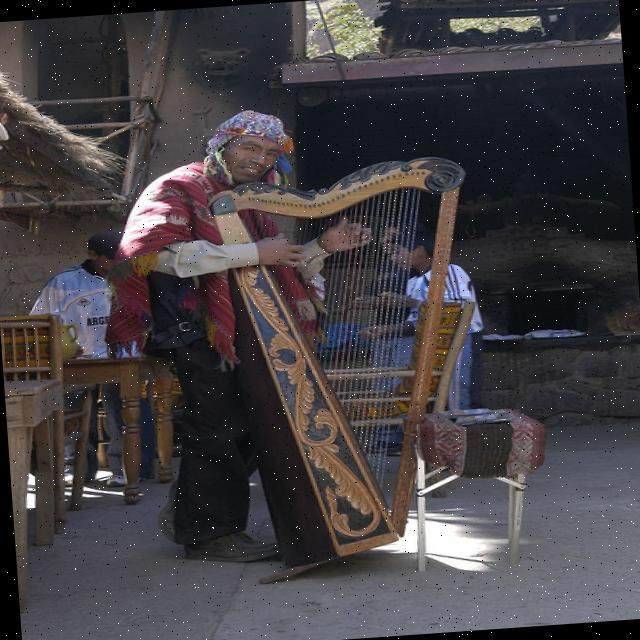harp: (205, 156, 496, 568)
